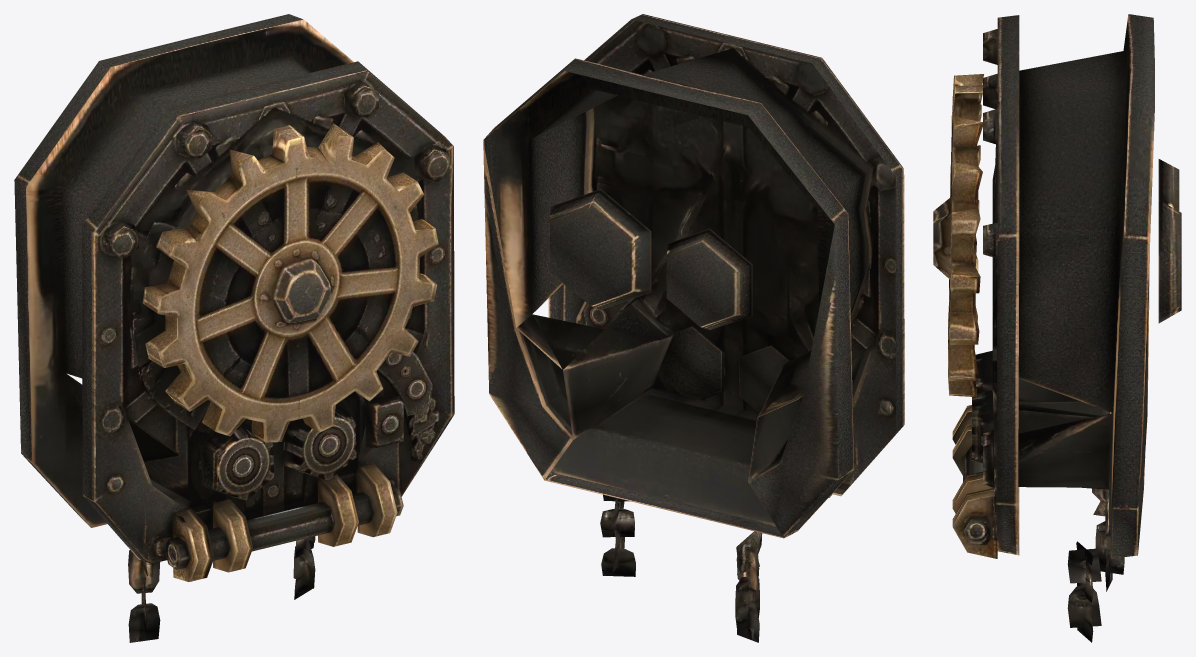
The model's file is ignivar_prop_gate_gear.glb.
3 renders of one model, left to right at view 1: azimuth 30°, elevation 25°; view 2: azimuth 150°, elevation 25°; view 3: azimuth 270°, elevation 25°, orthographic. The views are drawn at different scales.
Visible parts, largest first — view 1: gate_gear; view 2: gate_gear; view 3: gate_gear.
Boxes of the visible parts, left/top/right/bottom form: gate_gear: left=14, top=14, right=454, bottom=642; gate_gear: left=483, top=14, right=904, bottom=642; gate_gear: left=933, top=14, right=1181, bottom=642.
Bounding box in the file's own units: 0.6738 × 0.998 × 0.4004.
Materials: 1 (1 with a texture image).
